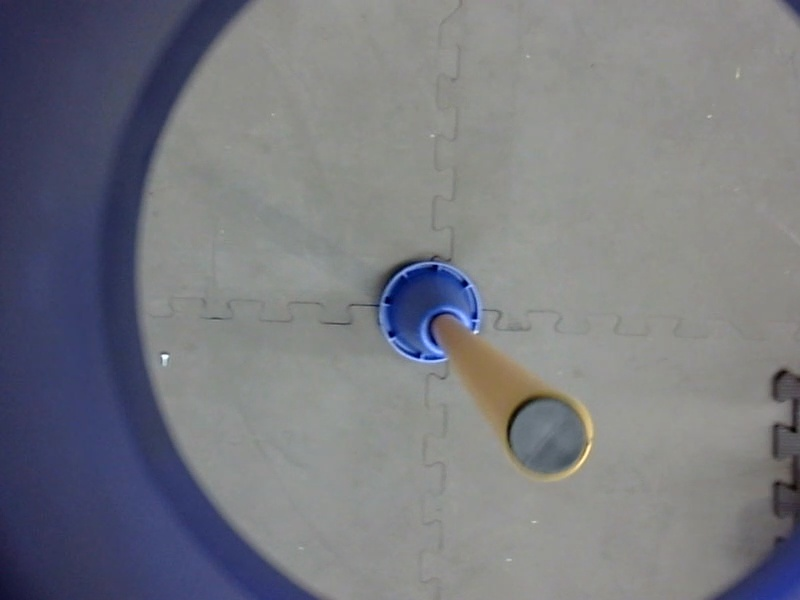tip: (496, 385, 599, 487)
